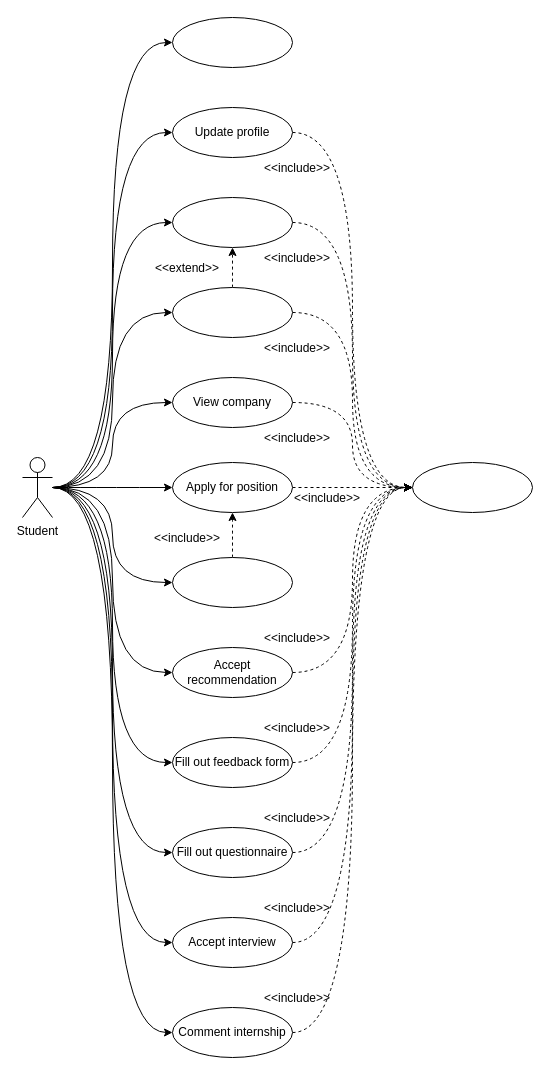
This 550x1075 diagram has some shape labels left out. The centre of each missing label's shape, as x and y in pixels:
Log in: the point at 472,487
Search position: the point at 232,222
Sign up: the point at 232,42
View position: the point at 232,312
Withdraw application: the point at 232,582
